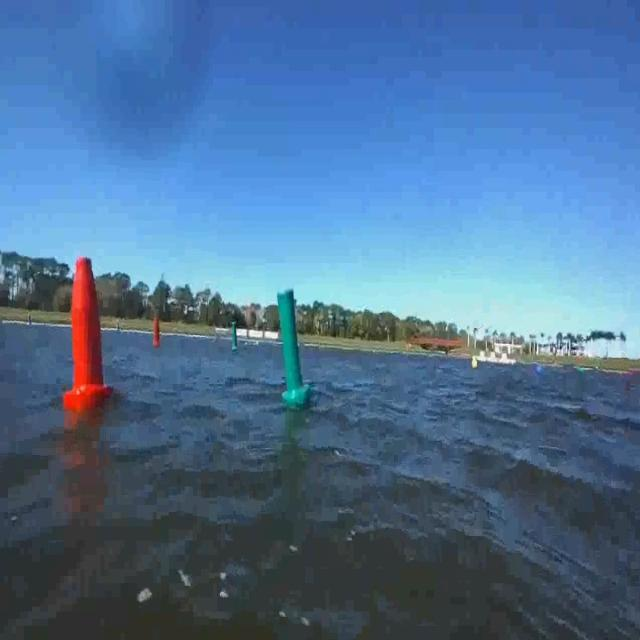blue-buoy: (535, 362, 543, 376)
green-column-buoy: (276, 286, 312, 408), (232, 322, 241, 353)
red-column-buoy: (64, 255, 112, 411), (152, 317, 161, 347)
yellow-buoy: (470, 355, 478, 371)
